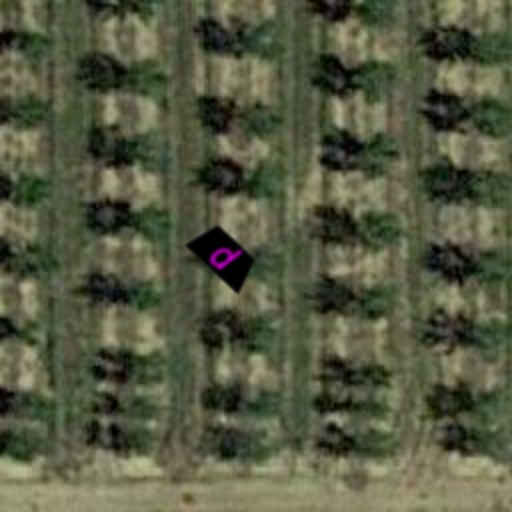trapezoid: (170, 202, 278, 310)
